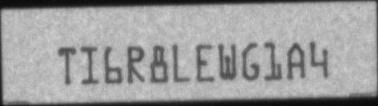1: (263, 40, 283, 82)
4: (309, 41, 328, 78)
6: (104, 46, 123, 84)
8: (150, 44, 169, 83)
A: (286, 42, 305, 81)
E: (196, 43, 214, 82)
G: (241, 40, 260, 82)
I: (80, 45, 100, 84)
L: (173, 41, 191, 83)
R: (128, 44, 144, 84)
T: (56, 46, 77, 84)
W: (217, 41, 237, 80)
